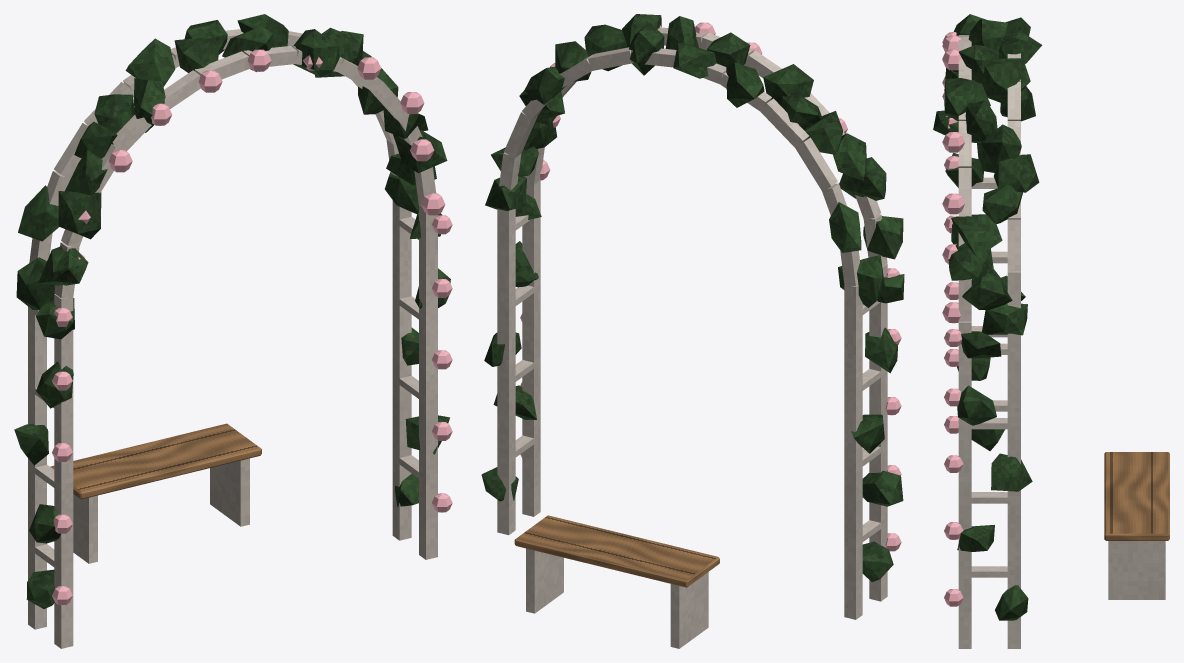
Rendered from flower_arch.glb.
3 renders of one model, left to right at view 1: azimuth 30°, elevation 25°; view 2: azimuth 150°, elevation 25°; view 3: azimuth 270°, elevation 25°, orthographic. The views are drawn at different scales.
Visible parts, largest first — view 1: flower_arch; view 2: flower_arch; view 3: flower_arch.
Part boxes in pixels (left/top/right/bottom): flower_arch: left=14, top=14, right=452, bottom=648; flower_arch: left=481, top=14, right=904, bottom=648; flower_arch: left=933, top=14, right=1169, bottom=648.
Size of what is drawn, in the model's own units: 2.77 by 3.56 by 1.45.
Materials: 4 (3 with a texture image).
